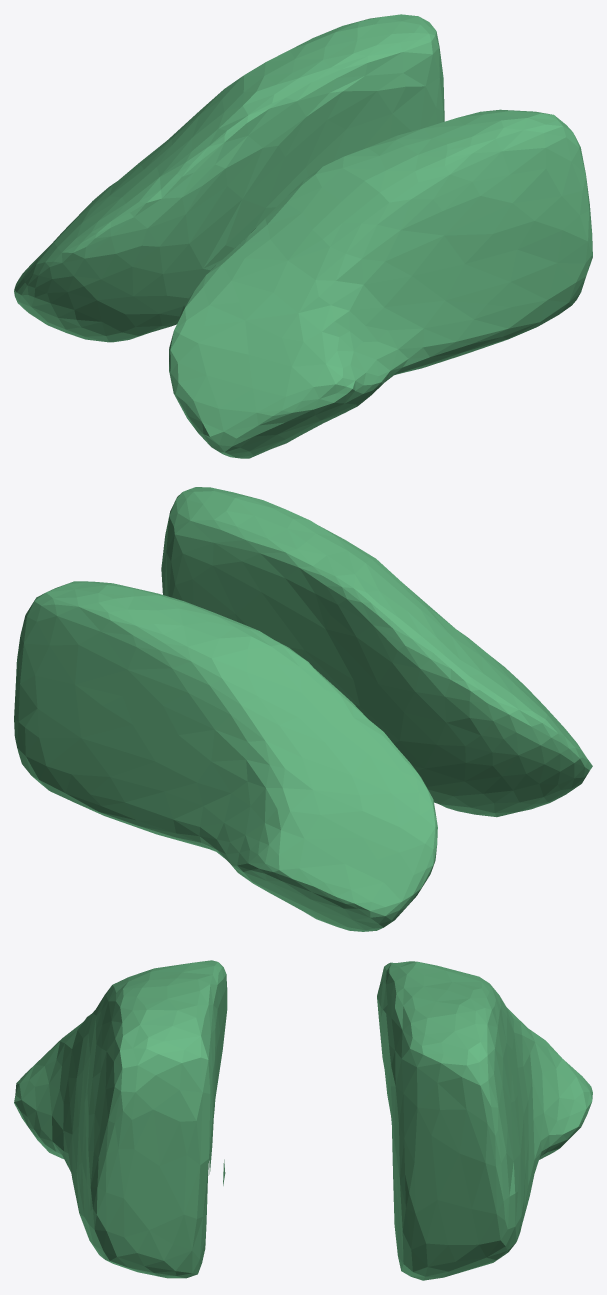
The picture shows the model from 3 angles, top to bottom: view 1: azimuth 30°, elevation 25°; view 2: azimuth 150°, elevation 25°; view 3: azimuth 270°, elevation 25°; orthographic projection. The views are drawn at different scales.
Visible parts, largest first — view 1: 363.obj; view 2: 363.obj; view 3: 363.obj.
Boxes of the visible parts, x1,y1,x2,y2 form: 363.obj: [14, 14, 592, 458]; 363.obj: [14, 487, 592, 931]; 363.obj: [14, 960, 592, 1280].
Bounding box in the file's own units: 1718 × 1057 × 1783.
